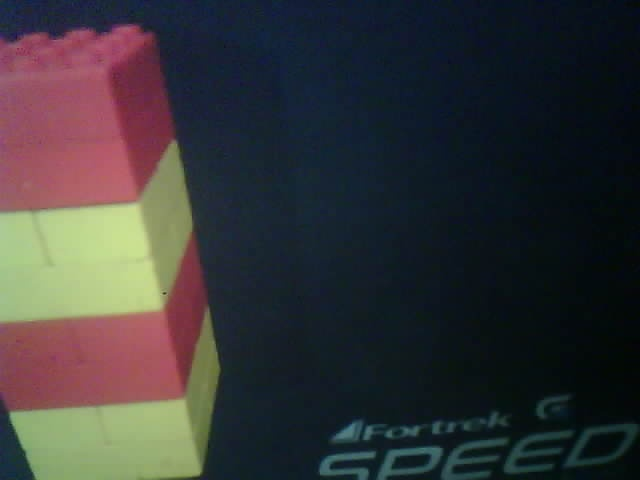lego: (1, 24, 224, 479)
